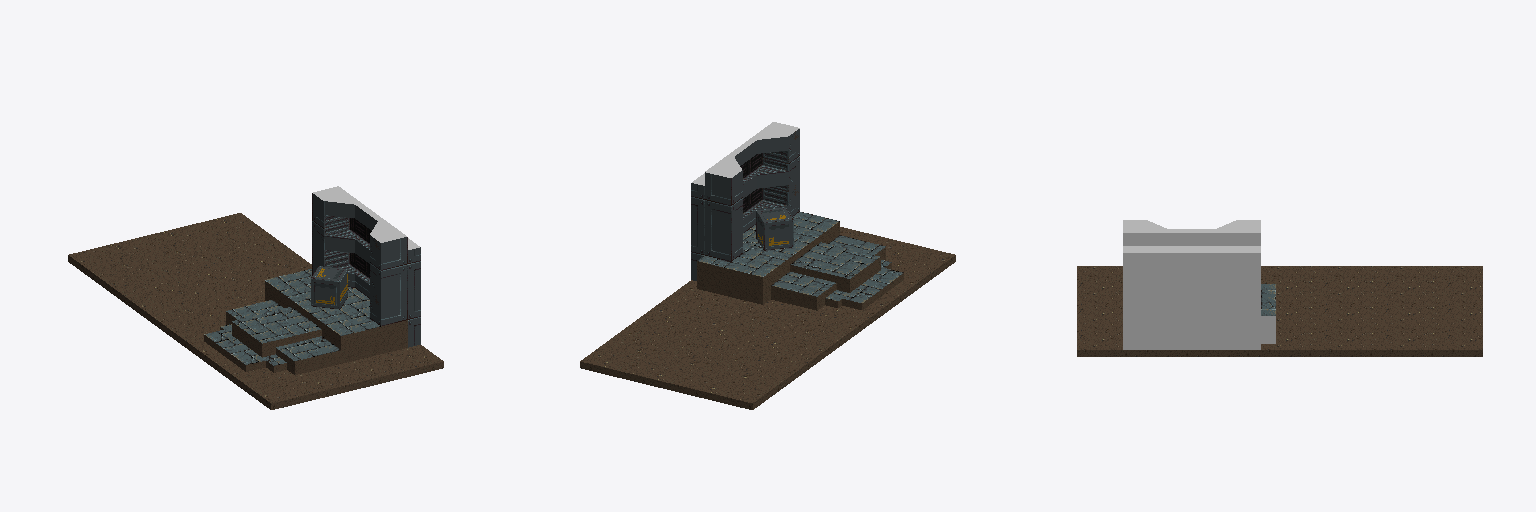
The picture shows the model from 3 angles: view 1: azimuth 30°, elevation 25°; view 2: azimuth 150°, elevation 25°; view 3: azimuth 270°, elevation 25°; orthographic projection.
Parts seen in each view (by area): view 1: entity0_brush5, entity0_brush0, entity0_brush12, entity0_brush4, entity0_brush13, entity0_brush19, entity0_brush3, entity0_brush20, entity0_brush1, entity0_brush2, entity0_brush16, entity0_brush10 (+1 smaller); view 2: entity0_brush5, entity0_brush0, entity0_brush13, entity0_brush4, entity0_brush12, entity0_brush19, entity0_brush2, entity0_brush20, entity0_brush1, entity0_brush3, entity0_brush16, entity0_brush11 (+1 smaller); view 3: entity0_brush5, entity0_brush19, entity0_brush16, entity0_brush0, entity0_brush12, entity0_brush13.
Boxes of the visible parts, <box> form: entity0_brush5: <box>68,213,443,409</box>; entity0_brush0: <box>265,269,407,363</box>; entity0_brush12: <box>370,228,407,325</box>; entity0_brush4: <box>232,307,321,357</box>; entity0_brush13: <box>312,186,349,275</box>; entity0_brush19: <box>350,218,420,347</box>; entity0_brush3: <box>276,336,340,374</box>; entity0_brush20: <box>311,266,347,309</box>; entity0_brush1: <box>204,330,265,371</box>; entity0_brush2: <box>226,300,283,324</box>; entity0_brush16: <box>344,195,394,230</box>; entity0_brush10: <box>324,196,354,217</box>; entity0_brush5: <box>580,227,955,409</box>; entity0_brush0: <box>697,212,839,304</box>; entity0_brush13: <box>705,164,742,261</box>; entity0_brush4: <box>790,242,880,292</box>; entity0_brush12: <box>762,122,799,216</box>; entity0_brush19: <box>691,153,761,280</box>; entity0_brush2: <box>771,272,836,310</box>; entity0_brush20: <box>756,207,793,250</box>; entity0_brush1: <box>842,268,903,309</box>; entity0_brush3: <box>828,235,885,260</box>; entity0_brush16: <box>716,130,767,165</box>; entity0_brush11: <box>757,132,788,153</box>; entity0_brush5: <box>1077,266,1482,356</box>; entity0_brush19: <box>1123,246,1260,349</box>; entity0_brush16: <box>1146,229,1237,245</box>; entity0_brush0: <box>1261,284,1275,343</box>; entity0_brush12: <box>1123,220,1145,245</box>; entity0_brush13: <box>1238,220,1260,245</box>.
Size of the model in its own units: 208 by 136 by 424.
Materials: 9 (8 with a texture image).